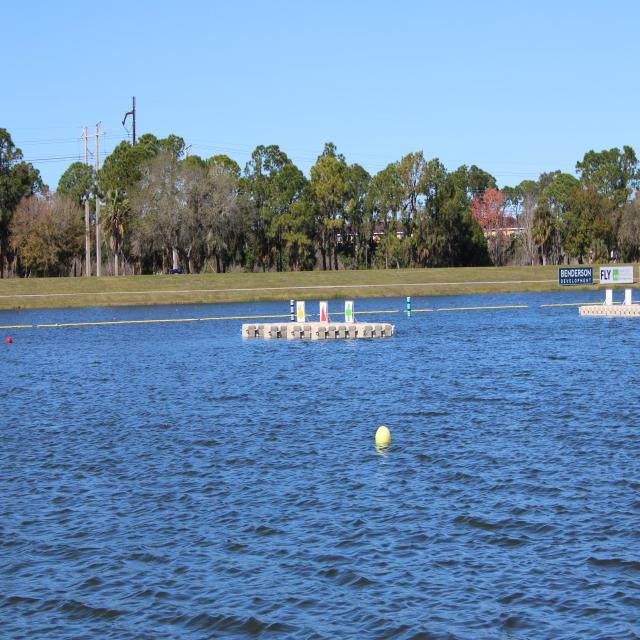blue-cross: (345, 302, 351, 324)
red-buoy: (6, 338, 12, 347)
red-dot: (320, 299, 328, 330)
yellow-buoy: (377, 427, 392, 448)
yellow-duck: (295, 301, 305, 327)
